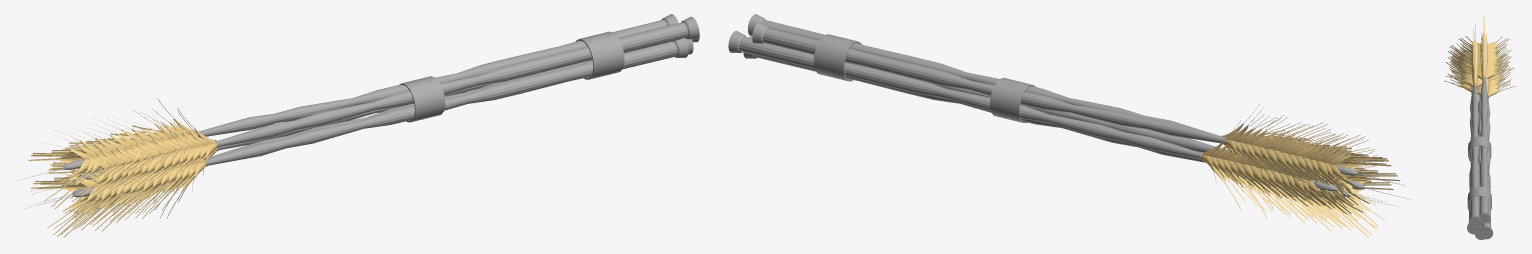
Rendered from envMesh_WindmillIsle_Wheat_Bundle.FBX.fbx.
3 renders of one model, left to right at view 1: azimuth 30°, elevation 25°; view 2: azimuth 150°, elevation 25°; view 3: azimuth 270°, elevation 25°, orthographic. The views are drawn at different scales.
Visible parts, largest first — view 1: WheatBundle1_Wheatstalk_Alphas3_Top1, WheatBundle1_Wheatstalk_Alphas2_Top1, WheatBundle1_Wheatstalk_Alphas1_Side1, WheatBundle1_Wheatstalk_Alphas1_Top1, WheatBundle1_Wheatstalk_Alphas2_Side1, WheatBundle1_Wheatstalk_Alphas3_Side1, WheatBundle1_Wheatstalk_Alphas4_Side1, pCylinder83, pCylinder84, WheatBundle1_Wheatstalk_Alphas4_Top1, WheatBundle1_Wheatstalk_Alphas5_Top1, WheatBundle1_Wheatstalk_Alphas5_Side1; view 2: WheatBundle1_Wheatstalk_Alphas1_Top1, WheatBundle1_Wheatstalk_Alphas5_Top1, WheatBundle1_Wheatstalk_Alphas1_Side1, WheatBundle1_Wheatstalk_Alphas5_Side1, WheatBundle1_Wheatstalk_Alphas2_Top1, WheatBundle1_Wheatstalk_Alphas4_Side1, WheatBundle1_Wheatstalk_Alphas2_Side1, WheatBundle1_Wheatstalk_Alphas3_Top1, pCylinder83, WheatBundle1_Wheatstalk_Alphas3_Side1, pCylinder84, WheatBundle1_Wheatstalk_Alphas4_Top1; view 3: WheatBundle1_Wheatstalk_Alphas1_Side1, WheatBundle1_Wheatstalk_Alphas2_Top1, WheatBundle1_Wheatstalk_Alphas1_Top1, WheatBundle1_Wheatstalk_Alphas2_Side1, WheatBundle1_Wheatstalk_Alphas5_Side1, WheatBundle1_Wheatstalk_Alphas5_Top1, WheatBundle1_Wheatstalk_Alphas3_Side1, WheatBundle1_Wheatstalk_Alphas3_Top1, pCylinder83, WheatBundle1_Wheatstalk_Alphas4_Top1, pCylinder84, WheatBundle1_Wheatstalk_Alphas4_Side1.
Part boxes in pixels (left/top/right/bottom): WheatBundle1_Wheatstalk_Alphas3_Top1: left=24, top=38, right=688, bottom=208; WheatBundle1_Wheatstalk_Alphas2_Top1: left=31, top=16, right=699, bottom=191; WheatBundle1_Wheatstalk_Alphas1_Side1: left=28, top=98, right=197, bottom=208; WheatBundle1_Wheatstalk_Alphas1_Top1: left=16, top=14, right=678, bottom=180; WheatBundle1_Wheatstalk_Alphas2_Side1: left=48, top=108, right=217, bottom=218; WheatBundle1_Wheatstalk_Alphas3_Side1: left=37, top=126, right=206, bottom=237; WheatBundle1_Wheatstalk_Alphas4_Side1: left=31, top=126, right=189, bottom=236; pCylinder83: left=575, top=31, right=624, bottom=79; pCylinder84: left=399, top=76, right=445, bottom=122; WheatBundle1_Wheatstalk_Alphas4_Top1: left=25, top=39, right=693, bottom=206; WheatBundle1_Wheatstalk_Alphas5_Top1: left=32, top=30, right=699, bottom=194; WheatBundle1_Wheatstalk_Alphas5_Side1: left=49, top=111, right=218, bottom=221; WheatBundle1_Wheatstalk_Alphas1_Top1: left=752, top=22, right=1404, bottom=185; WheatBundle1_Wheatstalk_Alphas5_Top1: left=728, top=30, right=1385, bottom=201; WheatBundle1_Wheatstalk_Alphas1_Side1: left=1225, top=105, right=1391, bottom=213; WheatBundle1_Wheatstalk_Alphas5_Side1: left=1201, top=120, right=1367, bottom=228; WheatBundle1_Wheatstalk_Alphas2_Top1: left=748, top=14, right=1403, bottom=184; WheatBundle1_Wheatstalk_Alphas4_Side1: left=1235, top=129, right=1393, bottom=237; WheatBundle1_Wheatstalk_Alphas2_Side1: left=1222, top=104, right=1386, bottom=210; WheatBundle1_Wheatstalk_Alphas3_Top1: left=864, top=66, right=1409, bottom=199; pCylinder83: left=813, top=34, right=861, bottom=81; WheatBundle1_Wheatstalk_Alphas3_Side1: left=1235, top=120, right=1400, bottom=228; pCylinder84: left=990, top=77, right=1035, bottom=123; WheatBundle1_Wheatstalk_Alphas4_Top1: left=743, top=36, right=1400, bottom=207; WheatBundle1_Wheatstalk_Alphas1_Side1: left=1454, top=16, right=1513, bottom=79; WheatBundle1_Wheatstalk_Alphas2_Top1: left=1468, top=84, right=1481, bottom=228; WheatBundle1_Wheatstalk_Alphas1_Top1: left=1478, top=77, right=1490, bottom=224; WheatBundle1_Wheatstalk_Alphas2_Side1: left=1446, top=23, right=1504, bottom=88; WheatBundle1_Wheatstalk_Alphas5_Side1: left=1457, top=33, right=1515, bottom=96; WheatBundle1_Wheatstalk_Alphas5_Top1: left=1479, top=95, right=1493, bottom=239; WheatBundle1_Wheatstalk_Alphas3_Side1: left=1444, top=28, right=1502, bottom=93; WheatBundle1_Wheatstalk_Alphas3_Top1: left=1467, top=90, right=1476, bottom=234; pCylinder83: left=1467, top=186, right=1491, bottom=210; WheatBundle1_Wheatstalk_Alphas4_Top1: left=1474, top=95, right=1484, bottom=239; pCylinder84: left=1468, top=136, right=1491, bottom=160; WheatBundle1_Wheatstalk_Alphas4_Side1: left=1451, top=31, right=1510, bottom=96.
Size of the model in its own units: 1.5 by 0.2587 by 0.2459.
Materials: 2 (1 with a texture image).
